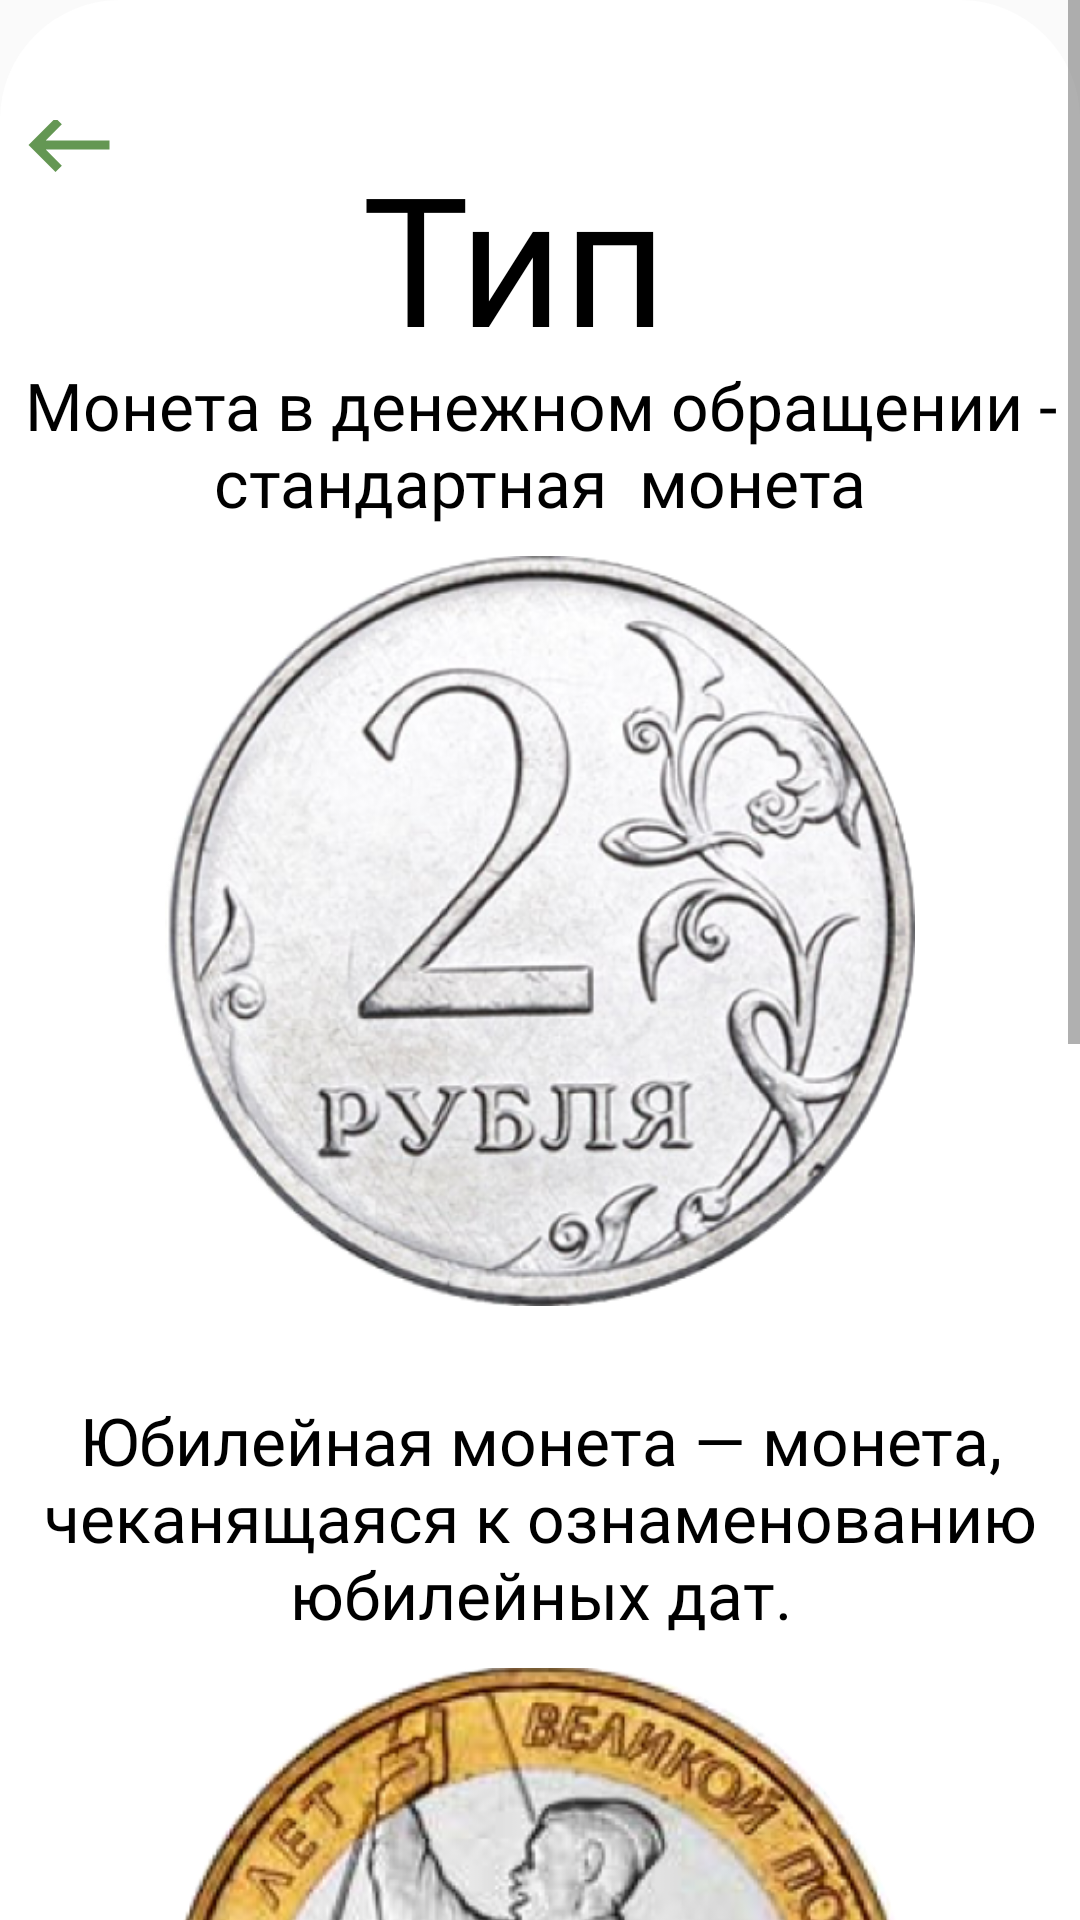

Icons on this 1080×1920 Android screen, each with its box as (x1, y1, x2, y2):
keyboard backspace: (29, 120, 110, 172)
